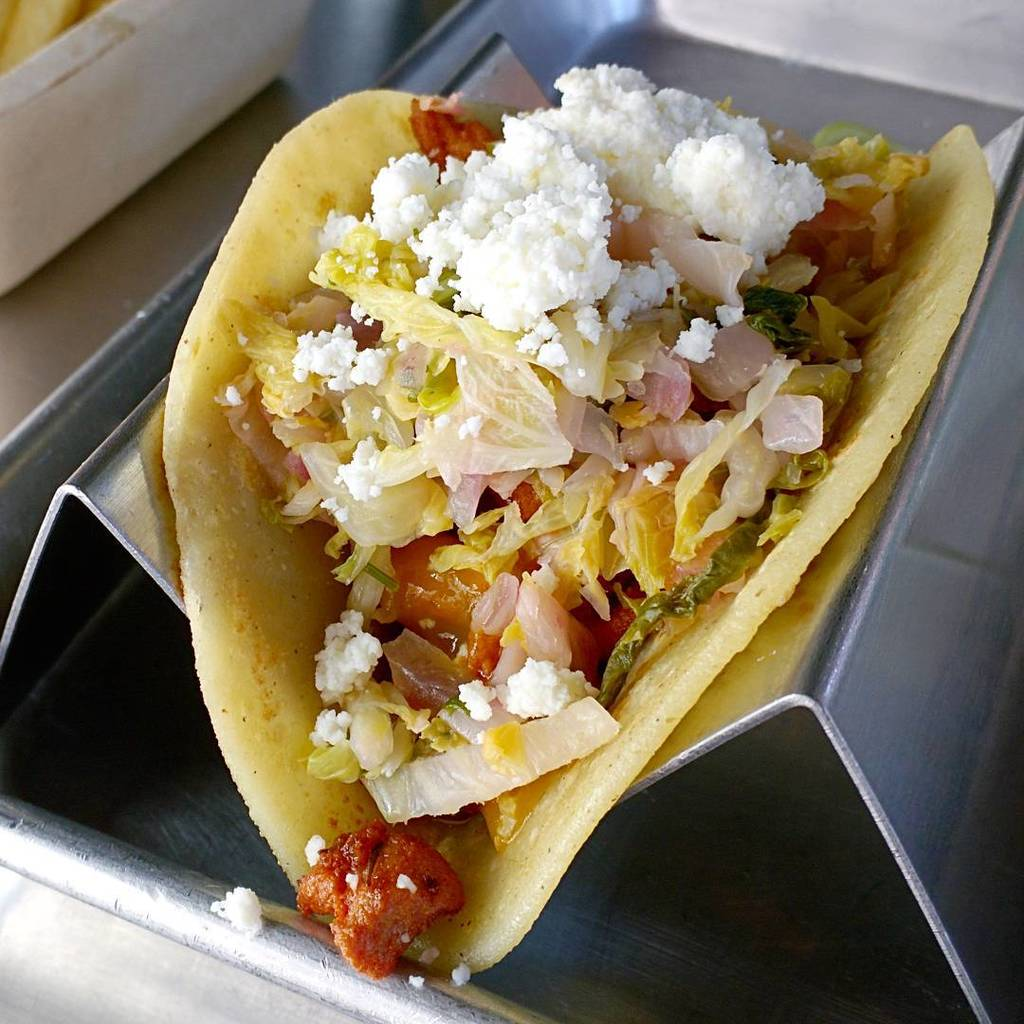taco: (155, 50, 1002, 989)
